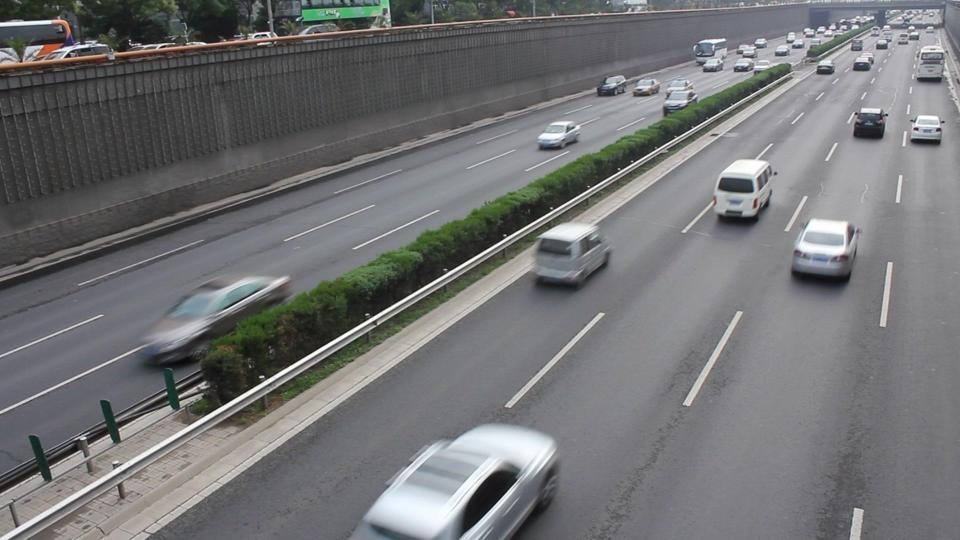car: (348, 422, 563, 539), (139, 274, 292, 368), (533, 220, 613, 287), (791, 218, 861, 281), (713, 157, 777, 221), (33, 41, 116, 64), (537, 121, 582, 150), (849, 108, 888, 139), (908, 114, 944, 145), (663, 85, 697, 116), (596, 75, 629, 97), (630, 77, 662, 98), (0, 48, 19, 63), (817, 61, 835, 75)
